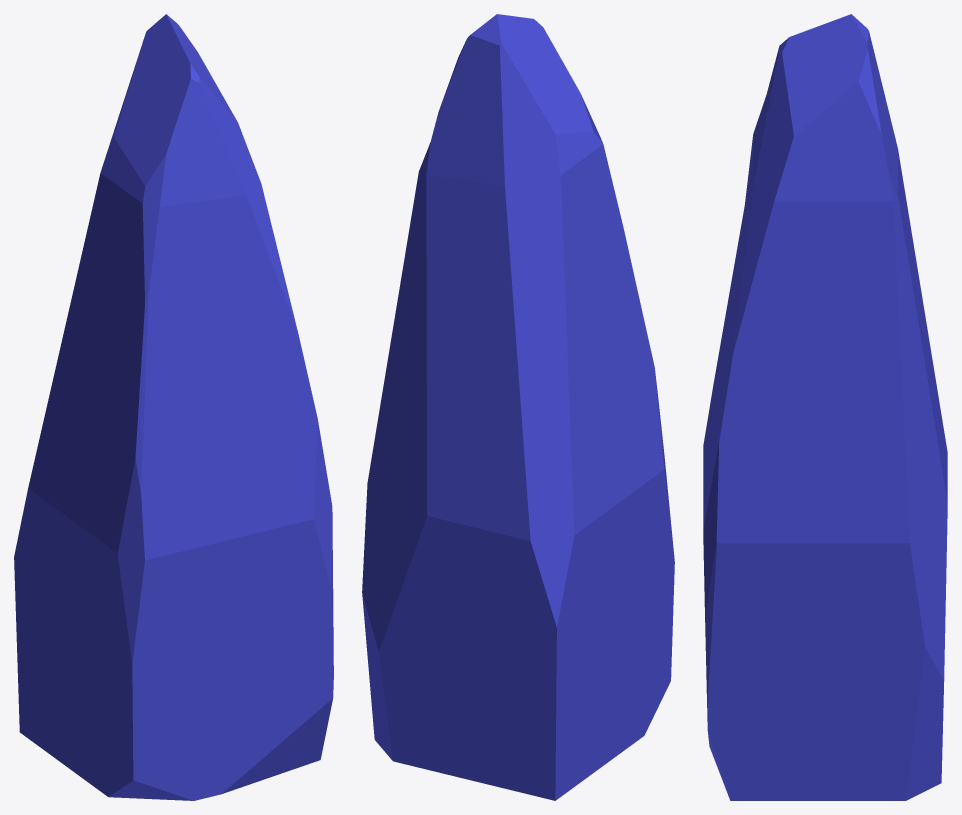
File: SM_Rock01_FFfbx.fbx
3 renders of one model, left to right at view 1: azimuth 30°, elevation 25°; view 2: azimuth 150°, elevation 25°; view 3: azimuth 270°, elevation 25°, orthographic.
Parts seen in each view (by area): view 1: Ice_RockLowPoly; view 2: Ice_RockLowPoly; view 3: Ice_RockLowPoly.
Part boxes in pixels (x1,y1,x2,y2): Ice_RockLowPoly: (14, 14, 333, 800); Ice_RockLowPoly: (362, 14, 674, 800); Ice_RockLowPoly: (703, 14, 947, 800).
Bounding box in the file's own units: 211 × 703 × 211.
